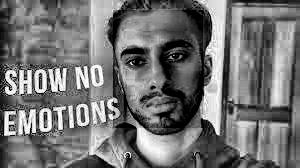sad: (114, 11, 204, 129)
